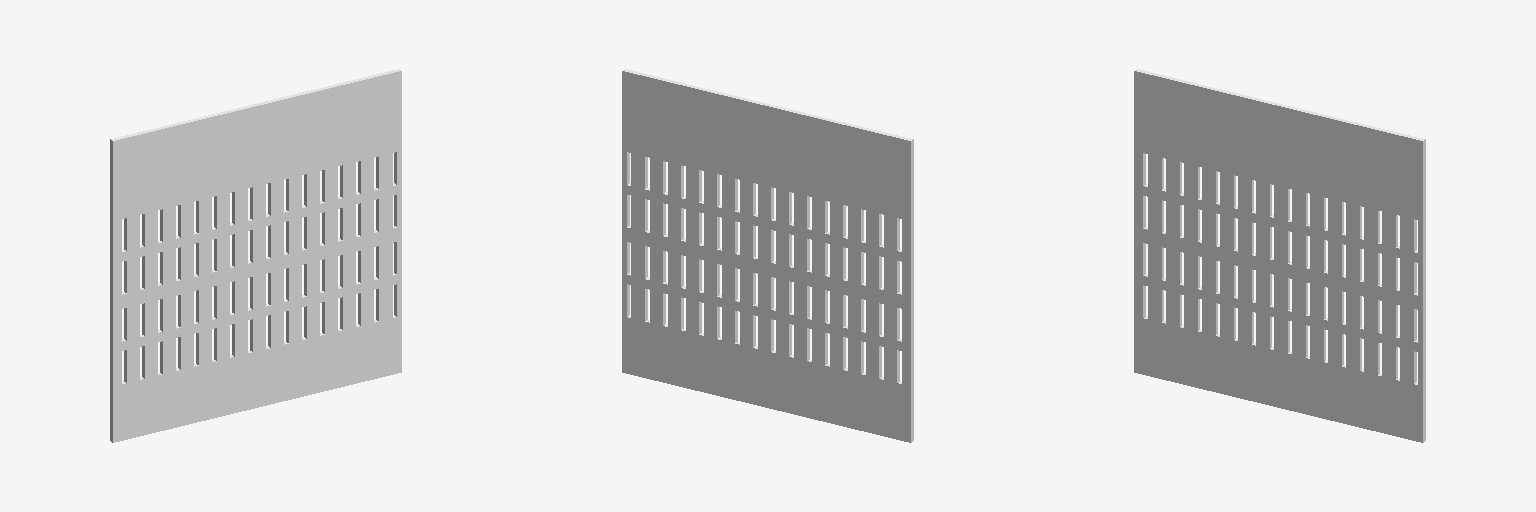
Rendered from 3x3x3-0-решетка1.obj.
The picture shows the model from 3 angles: view 1: azimuth 30°, elevation 25°; view 2: azimuth 150°, elevation 25°; view 3: azimuth 330°, elevation 25°; orthographic projection.
Visible parts, largest first — view 1: решетка1; view 2: решетка1; view 3: решетка1.
Part boxes in pixels (x1,y1,x2,y2): решетка1: (110,69,401,442); решетка1: (622,69,913,442); решетка1: (1134,69,1425,442).
Bounding box in the file's own units: 6.4 × 6.4 × 0.1.